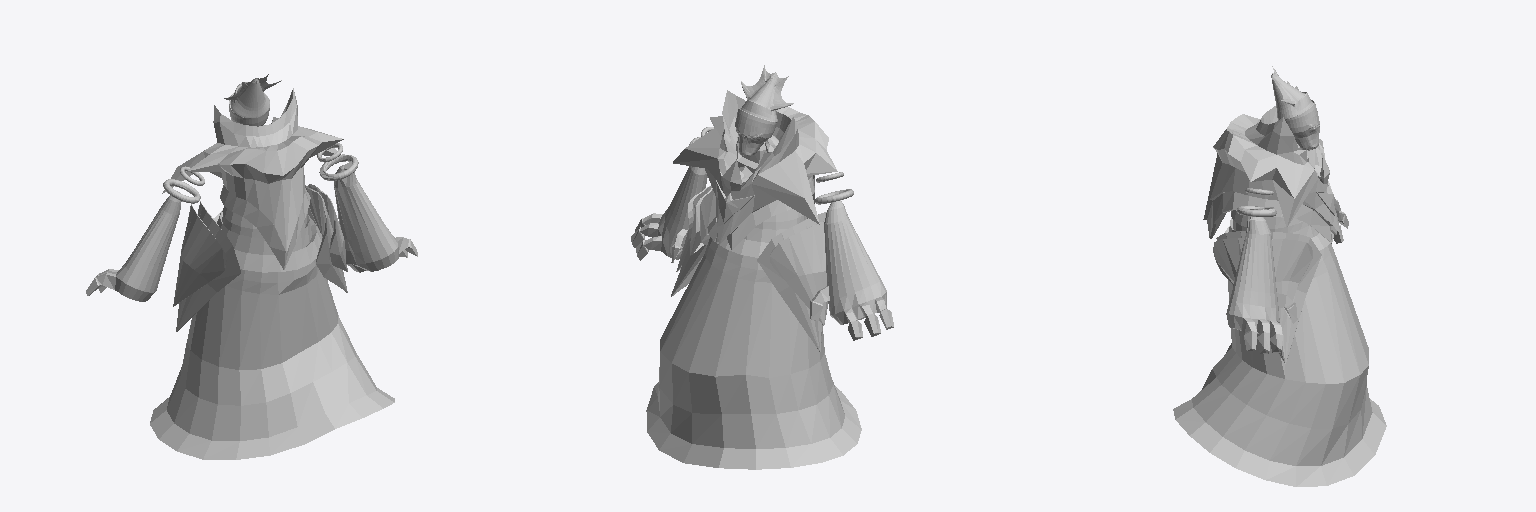
File: RATH_IDLE_24FPS.0053.obj
3 renders of one model, left to right at view 1: azimuth 30°, elevation 25°; view 2: azimuth 150°, elevation 25°; view 3: azimuth 270°, elevation 25°, orthographic.
Parts seen in each view (by area): view 1: pasted__pasted__pTorus3; view 2: pasted__pasted__pTorus3; view 3: pasted__pasted__pTorus3.
Boxes of the visible parts, <box> form: pasted__pasted__pTorus3: <box>86,74,417,459</box>; pasted__pasted__pTorus3: <box>631,65,893,469</box>; pasted__pasted__pTorus3: <box>1173,66,1386,486</box>.
Size of the model in its own units: 150 by 180 by 94.3.